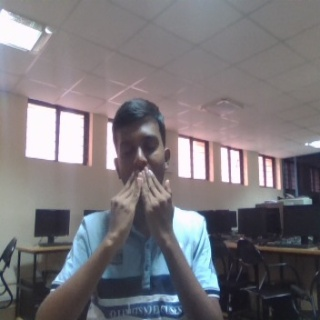Thank You: (107, 169, 177, 252)
